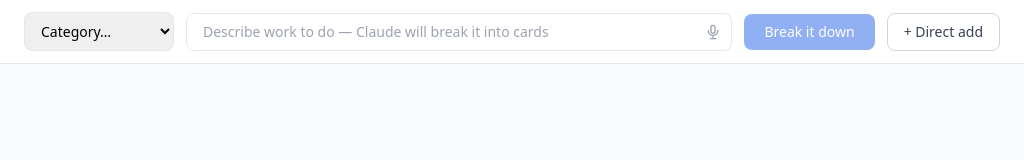
Test case: PromptBar › final speech result stops listening and keeps transcript
Step 1. Click the button named "start voice input" → (713, 32), box [695,16,731,48]
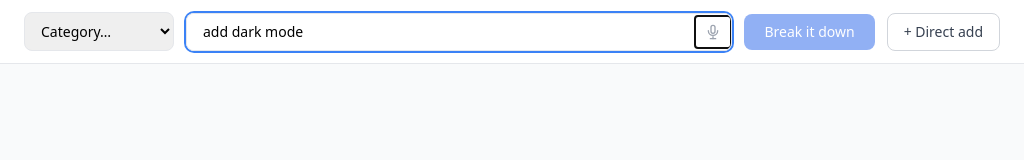
Result: the field showing "add dark mode" is shown at [187,14,689,50]
